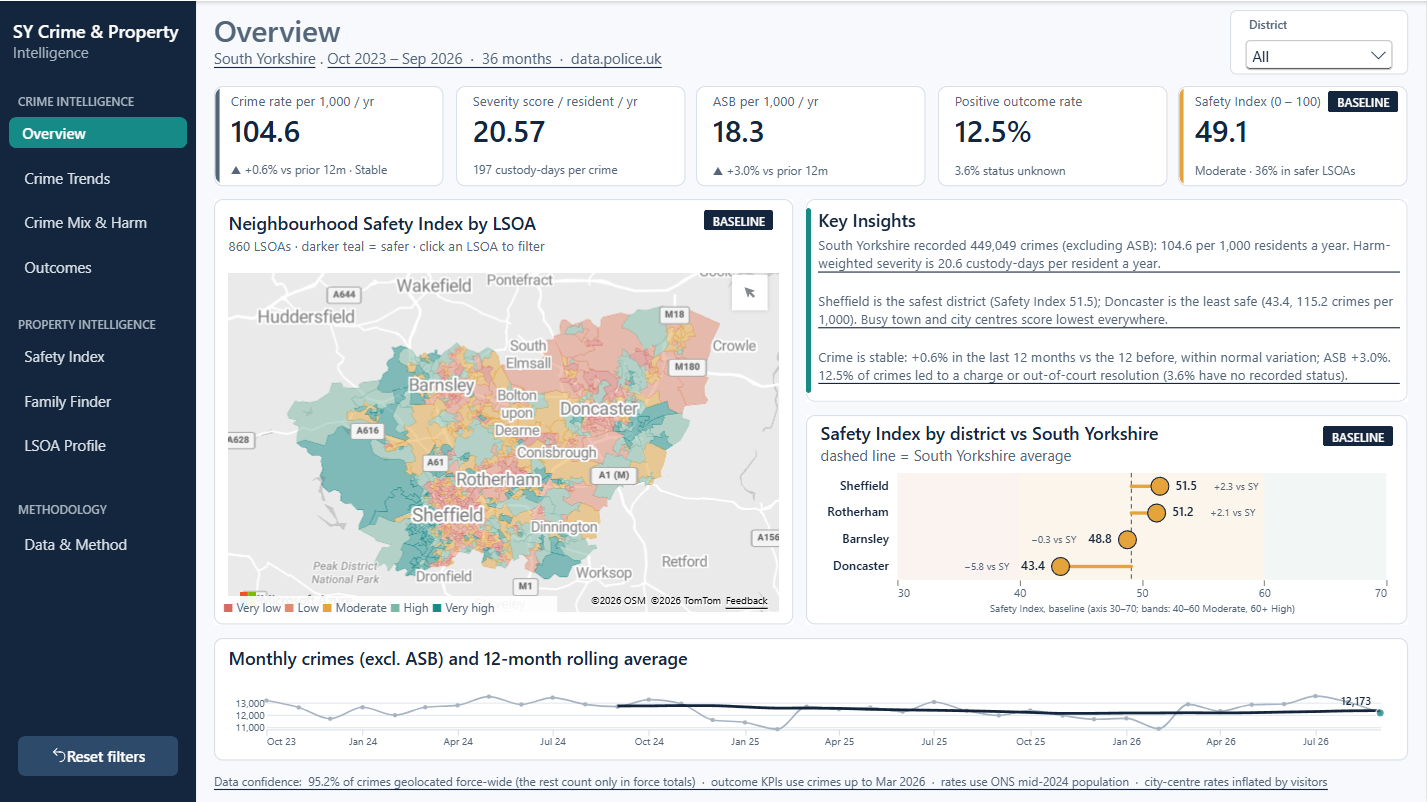

The page's visual inventory and layout, read from the dashboard file:
{"tool":"powerbi","page":{"name":"Overview","canvas":[1280,720],"ordinal":0},"visuals":[{"type":"group","id":"g1","title":"Nav rail","box":[0,0,176,720],"z":0},{"type":"shape","box":[0,0,176,720],"z":0,"group":"g1"},{"type":"shape","box":[1192,81,63,19],"z":0,"group":"g5"},{"type":"azureMap","title":"Neighbourhood Safety Index by LSOA","fields":{"Category":["LSOA.LSOA Code"]},"box":[192,178,520,382],"z":0,"group":"g3"},{"type":"shape","box":[724,178,540,182],"z":0,"group":"g4"},{"type":"shape","box":[632,188,62,18],"z":0,"group":"g2"},{"type":"shape","box":[1188,382,63,18],"z":0,"group":"g6"},{"type":"textbox","box":[192,8,640,36],"z":1000},{"type":"textbox","box":[12,16,160,56],"z":1000,"group":"g1"},{"type":"textbox","box":[1194,81,60,17.9],"z":1000,"group":"g5"},{"type":"shape","box":[723.6,185.8,12.6,166.1],"z":1000,"group":"g4"},{"type":"group","id":"g2","title":"Badge - KPI5","box":[632,188,62,18],"z":1000,"group":"g3"},{"type":"textbox","box":[634,188,59,17],"z":1000,"group":"g2"},{"type":"textbox","box":[1188,382,63,18],"z":1000,"group":"g6"},{"type":"textbox","box":[192,42,640,22],"z":2000},{"type":"textbox","box":[16,80,156,20],"z":2000,"group":"g1"},{"type":"textbox","title":"Key Insights","box":[732,186,525,166],"z":2000,"group":"g4"},{"type":"textbox","box":[200,534,300,20],"z":2000,"group":"g3"},{"type":"slicer","fields":{"Values":["LSOA.Local Authority"]},"box":[1104,8,160,58],"z":3000},{"type":"textbox","box":[16,280,156,20],"z":3000,"group":"g1"},{"type":"cardVisual","title":"\tCrime rate per 1,000 / yr","fields":{"Data":["_Measures.Crime Rate per 1,000"]},"box":[192.1,76.3,205.6,89.8],"z":4000},{"type":"textbox","box":[16,446,156,20],"z":4000,"group":"g1"},{"type":"cardVisual","fields":{"Data":["_Measures.Severity Score"]},"box":[409.4,76.3,205.6,89.8],"z":5000},{"type":"pageNavigator","box":[8,104,160,150],"z":5000,"group":"g1"},{"type":"cardVisual","fields":{"Data":["_Measures.ASB Rate per 1,000"]},"box":[625,76,206,90],"z":6000},{"type":"pageNavigator","box":[8,304,160,108],"z":6000,"group":"g1"},{"type":"cardVisual","fields":{"Data":["_Measures.Positive Outcome Rate"]},"box":[842,76,206,90],"z":7000},{"type":"pageNavigator","box":[8,470,160.1,32],"z":7000,"group":"g1"},{"type":"cardVisual","fields":{"Data":["_Measures.NSI"]},"box":[1058,76,206,90],"z":8000},{"type":"actionButton","box":[16,660,144,36],"z":8000,"group":"g1"},{"type":"group","id":"g3","title":"Azure Map","box":[192,178,520,382],"z":9000},{"type":"group","id":"g4","title":"Insights","box":[723.6,178,540.4,182],"z":10000},{"type":"group","id":"g5","title":"Badge - KPI5","box":[1192,81,63,19],"z":11000},{"type":"deneb7E15AEF80B9E4D4F8E12924291ECE89A","title":"Safety Index by district vs South Yorkshire","fields":{"dataset":["LSOA.Local Authority","_Measures.NSI","_Measures.NSI South Yorkshire","_Measures.Crime Rate per 1,000","_Measures.Severity Score","_Measures.% Residents in Safer LSOAs","_Measures.NSI Area Colour"]},"box":[724,372,540,188],"z":11000,"group":"g7"},{"type":"deneb7E15AEF80B9E4D4F8E12924291ECE89A","title":"Monthly crimes (excl. ASB) and 12-month rolling average","fields":{"dataset":["Month.Month Start","_Measures.Crimes (excl. ASB)","_Measures.Rolling 12-Month Avg"]},"box":[192,572,1072,110],"z":12000},{"type":"group","id":"g6","title":"Badge - KPI5","box":[1188,382,63,18],"z":13000,"group":"g7"},{"type":"textbox","box":[192,690,1072,22],"z":13000},{"type":"group","id":"g7","title":"District Chart","box":[724,372,540,188],"z":14000}]}

Visuals, with their boxes in screenshot pixels (x1, y1, x2, y2), scaled from the page's 1280x720 canvas onto the 1427x802 screenshot:
"Nav rail" group: [x1=0, y1=0, x2=196, y2=801]
shape: [x1=0, y1=0, x2=196, y2=801]
shape: [x1=1329, y1=90, x2=1399, y2=111]
"Neighbourhood Safety Index by LSOA" azureMap: [x1=214, y1=198, x2=794, y2=624]
shape: [x1=807, y1=198, x2=1409, y2=401]
shape: [x1=705, y1=209, x2=774, y2=229]
shape: [x1=1324, y1=426, x2=1395, y2=446]
textbox: [x1=214, y1=9, x2=928, y2=49]
textbox: [x1=13, y1=18, x2=192, y2=80]
textbox: [x1=1331, y1=90, x2=1398, y2=110]
shape: [x1=807, y1=207, x2=821, y2=392]
"Badge - KPI5" group: [x1=705, y1=209, x2=774, y2=229]
textbox: [x1=707, y1=209, x2=773, y2=228]
textbox: [x1=1324, y1=426, x2=1395, y2=446]
textbox: [x1=214, y1=47, x2=928, y2=71]
textbox: [x1=18, y1=89, x2=192, y2=111]
"Key Insights" textbox: [x1=816, y1=207, x2=1401, y2=392]
textbox: [x1=223, y1=595, x2=557, y2=617]
slicer - LSOA.Local Authority: [x1=1231, y1=9, x2=1409, y2=74]
textbox: [x1=18, y1=312, x2=192, y2=334]
"	Crime rate per 1,000 / yr" cardVisual: [x1=214, y1=85, x2=443, y2=185]
textbox: [x1=18, y1=497, x2=192, y2=519]
cardVisual - _Measures.Severity Score: [x1=456, y1=85, x2=686, y2=185]
pageNavigator: [x1=9, y1=116, x2=187, y2=283]
cardVisual - _Measures.ASB Rate per 1,000: [x1=697, y1=85, x2=926, y2=185]
pageNavigator: [x1=9, y1=339, x2=187, y2=459]
cardVisual - _Measures.Positive Outcome Rate: [x1=939, y1=85, x2=1168, y2=185]
pageNavigator: [x1=9, y1=524, x2=187, y2=559]
cardVisual - _Measures.NSI: [x1=1180, y1=85, x2=1409, y2=185]
actionButton: [x1=18, y1=735, x2=178, y2=775]
"Azure Map" group: [x1=214, y1=198, x2=794, y2=624]
"Insights" group: [x1=807, y1=198, x2=1409, y2=401]
"Badge - KPI5" group: [x1=1329, y1=90, x2=1399, y2=111]
"Safety Index by district vs South Yorkshire" deneb7E15AEF80B9E4D4F8E12924291ECE89A: [x1=807, y1=414, x2=1409, y2=624]
"Monthly crimes (excl. ASB) and 12-month rolling average" deneb7E15AEF80B9E4D4F8E12924291ECE89A: [x1=214, y1=637, x2=1409, y2=760]
"Badge - KPI5" group: [x1=1324, y1=426, x2=1395, y2=446]
textbox: [x1=214, y1=769, x2=1409, y2=793]
"District Chart" group: [x1=807, y1=414, x2=1409, y2=624]
